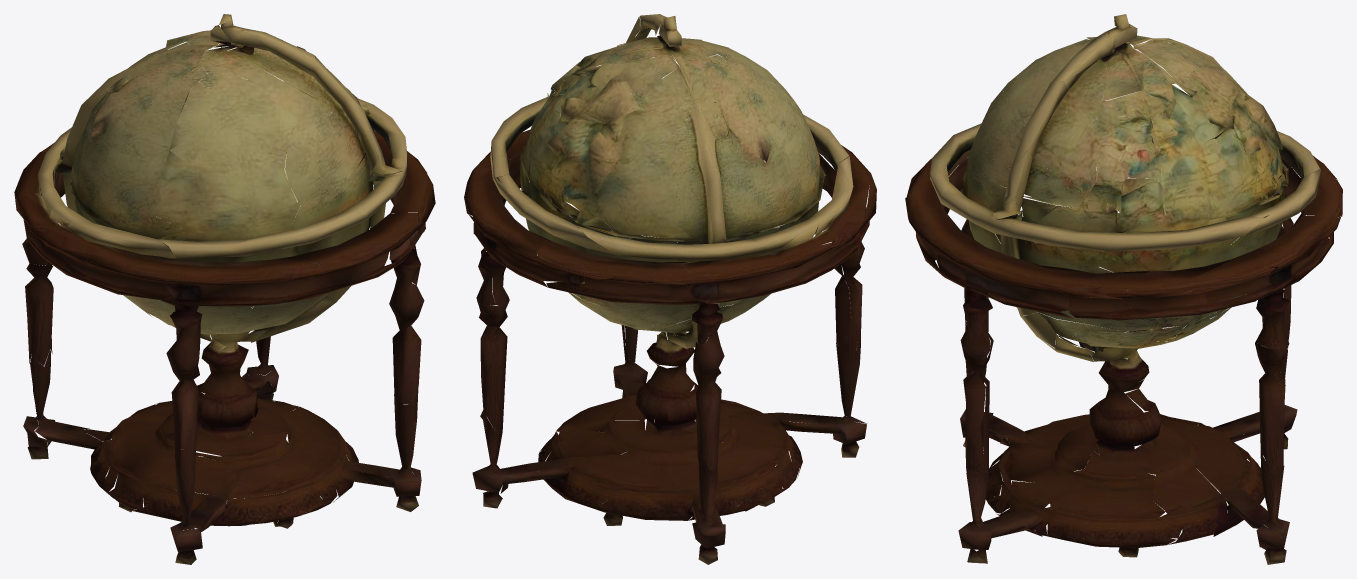
File: cp_globe.glb
3 views of the same model, side by side, from view 1: azimuth 30°, elevation 25°; view 2: azimuth 150°, elevation 25°; view 3: azimuth 270°, elevation 25° (orthographic). The views are drawn at different scales.
Parts seen in each view (by area): view 1: tripo_node_e53447df-fe08-4a50-9be8-7c992b33e9a0; view 2: tripo_node_e53447df-fe08-4a50-9be8-7c992b33e9a0; view 3: tripo_node_e53447df-fe08-4a50-9be8-7c992b33e9a0.
Boxes of the visible parts, x1,y1,x2,y2 form: tripo_node_e53447df-fe08-4a50-9be8-7c992b33e9a0: (14,14,435,564); tripo_node_e53447df-fe08-4a50-9be8-7c992b33e9a0: (464,14,876,564); tripo_node_e53447df-fe08-4a50-9be8-7c992b33e9a0: (905,14,1342,564).
Bounding box in the file's own units: 0.8082 × 0.9976 × 0.802.
1 material, 1 textured.
